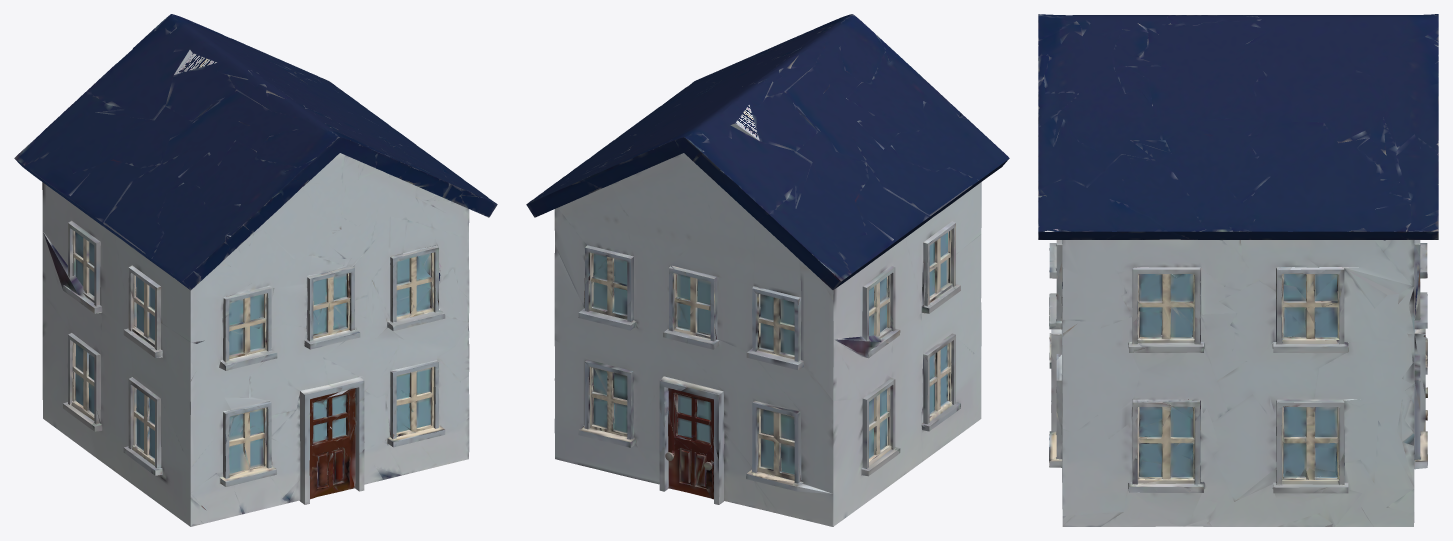
Rendered from rival.glb.
3 renders of one model, left to right at view 1: azimuth 30°, elevation 25°; view 2: azimuth 150°, elevation 25°; view 3: azimuth 270°, elevation 25°, orthographic. The views are drawn at different scales.
Bounding box in the file's own units: 1.72 × 1.9 × 1.59.
1 material, 1 textured.
